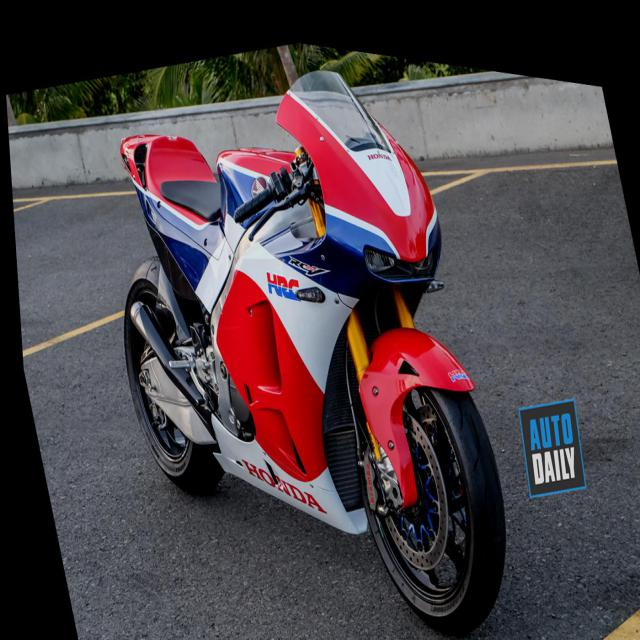HRC RCV 213: (67, 8, 525, 640)
